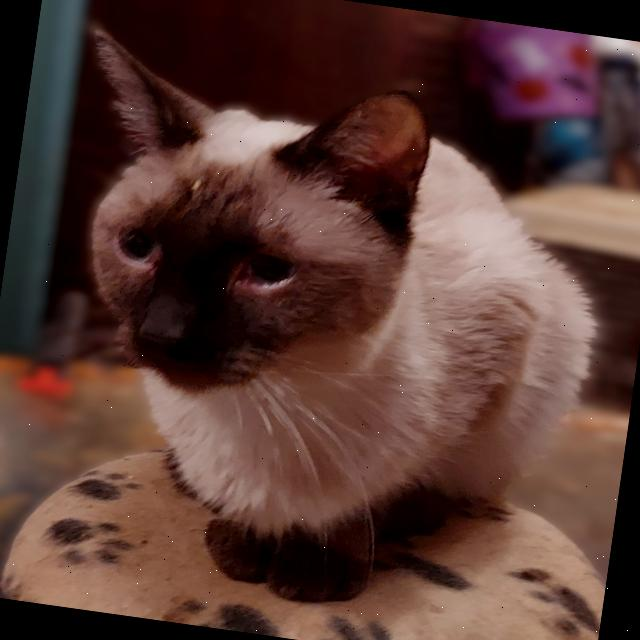siamese_cat: (21, 9, 483, 452)
